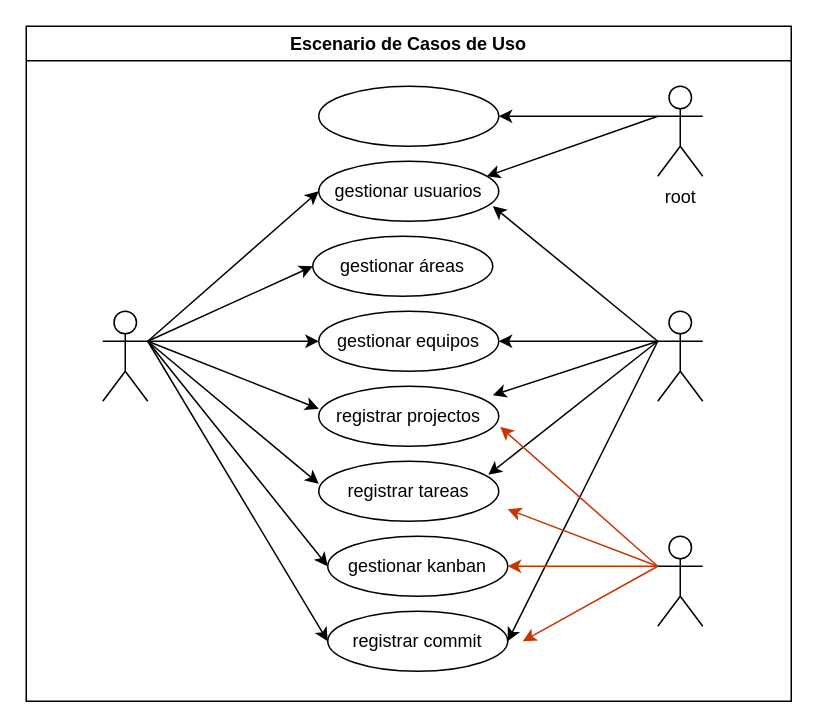
Image size: 818x728. Some labels were removed from this diagram. The shapes that lost their labels are listed below. From the top down, each one's box as (x1, y1, x2, y2) in pixels, then its label:
(317, 85, 499, 146): gestionar empresas
(101, 310, 148, 401): admin
(656, 310, 703, 401): supervisor
(656, 535, 703, 626): user
